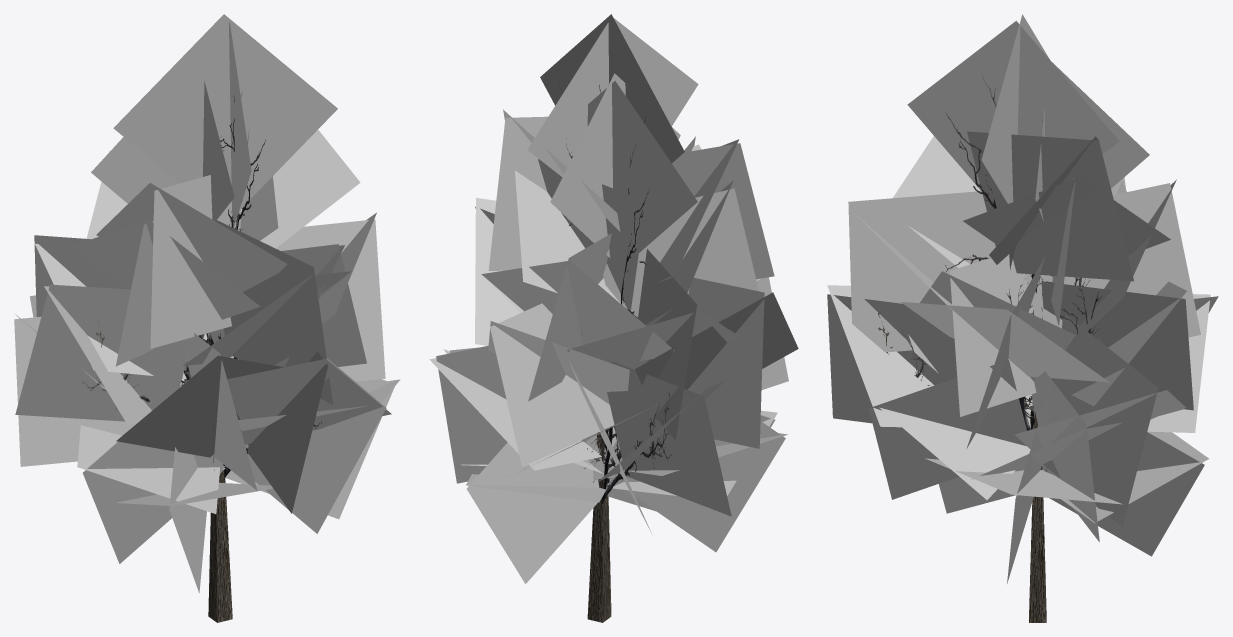
Rendered from oak-01.fbx.
3 views of the same model, side by side, from view 1: azimuth 30°, elevation 25°; view 2: azimuth 150°, elevation 25°; view 3: azimuth 270°, elevation 25° (orthographic).
Visible parts, largest first — view 1: oak-01; view 2: oak-01; view 3: oak-01.
Part boxes in pixels (left/top/right/bottom): oak-01: left=14, top=14, right=400, bottom=622; oak-01: left=429, top=14, right=798, bottom=622; oak-01: left=827, top=14, right=1218, bottom=622.
Size of the model in its own units: 1003 by 1667 by 981.
